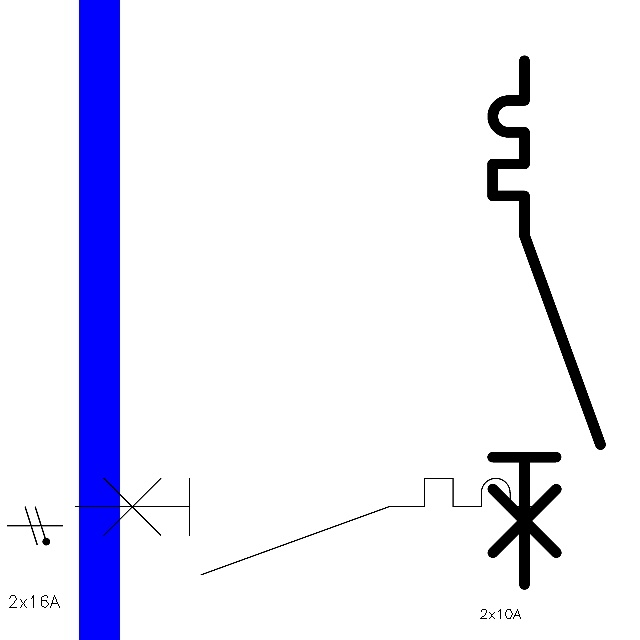interruptor_termomagnetico: (479, 47, 614, 598), (62, 466, 557, 587)
